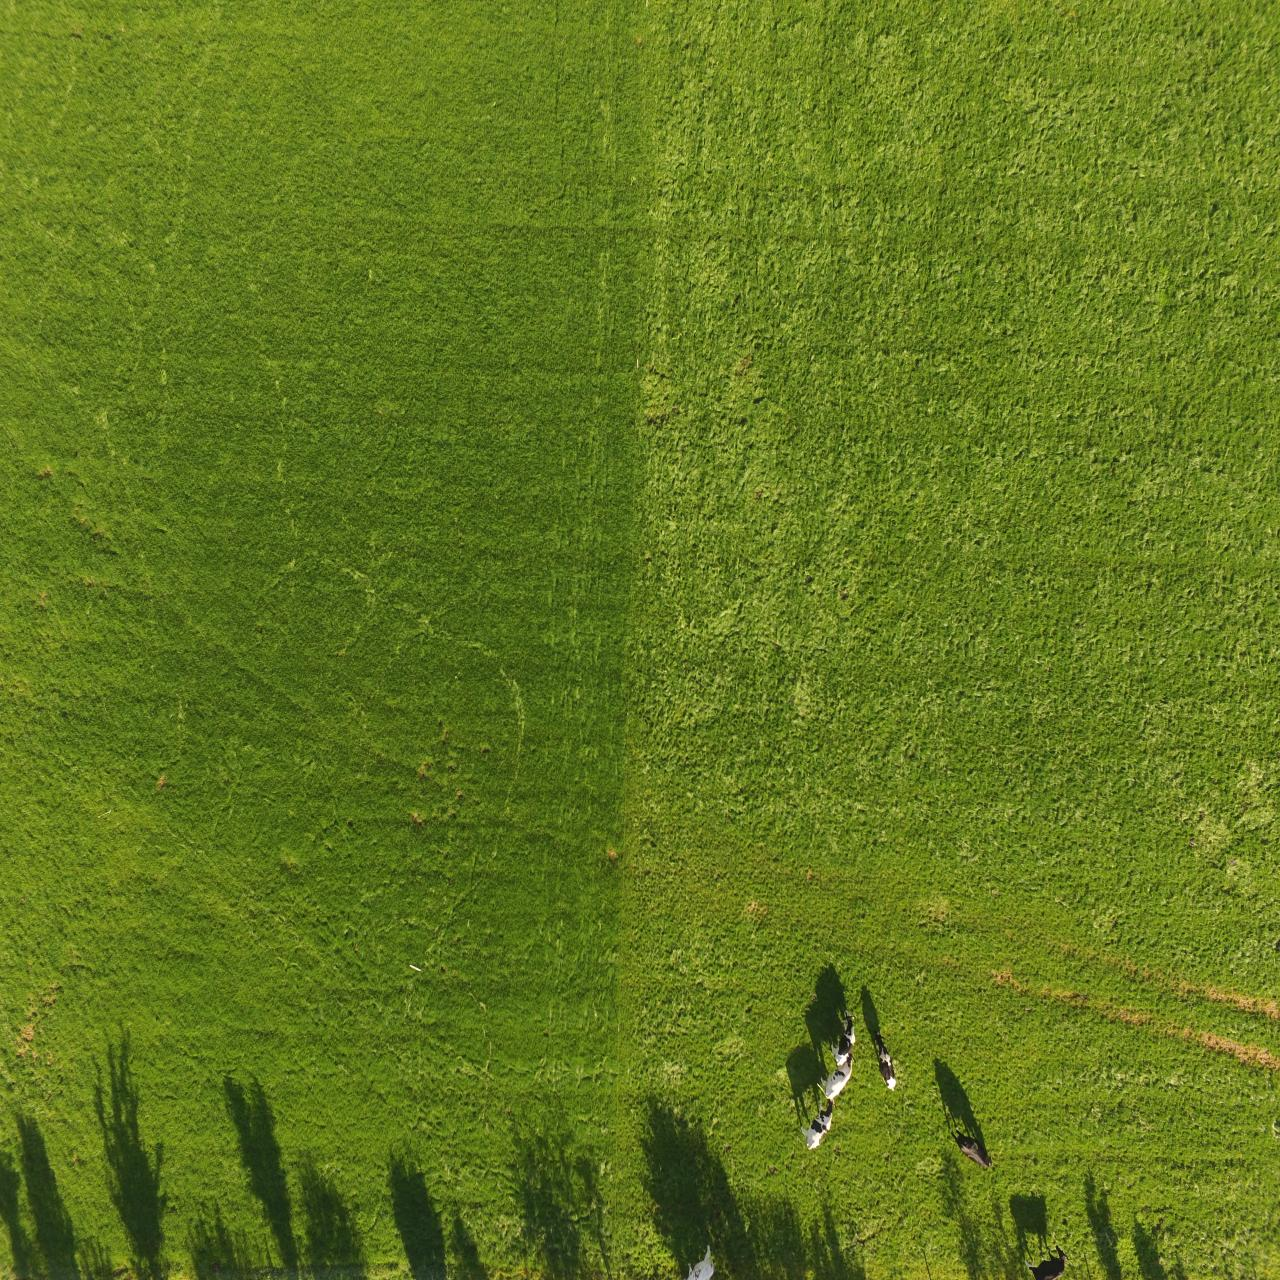cow: (803, 1094, 839, 1156), (822, 1048, 857, 1105), (951, 1124, 994, 1170), (1020, 1245, 1073, 1277), (872, 1030, 897, 1092), (830, 1008, 856, 1066)
